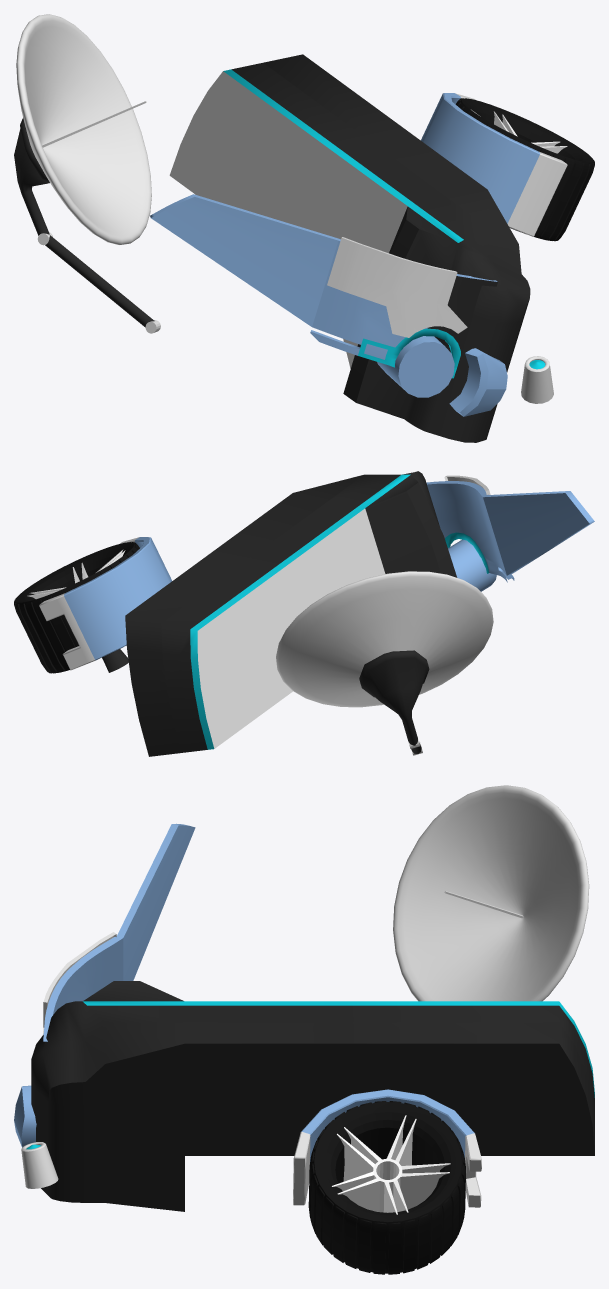
Rendered from rover_destroyed.fbx.
3 views of the same model, one above another, from view 1: azimuth 30°, elevation 25°; view 2: azimuth 150°, elevation 25°; view 3: azimuth 270°, elevation 25° (orthographic). The views are drawn at different scales.
Parts seen in each view (by area): view 1: Cube.006, ROVER.001, Head_Plate, Support_Back_Right, Plate_Right, Wheel_Back_Right, Head, Cylinder.002, Cube.004, Cube.003, Light_Front_Left; view 2: Cube.006, ROVER.001, Head_Plate, Support_Back_Right, Wheel_Back_Right, Cube.004, Head, Rims_Back_Right, WheelRod_Back_Right; view 3: Cube.006, ROVER.001, Wheel_Back_Right, Head_Plate, Rims_Back_Right, Support_Back_Right, Light_Front_Left, Cylinder.002.
Boxes of the visible parts, <box> form: Cube.006: <box>169,54,530,442</box>; ROVER.001: <box>16,14,151,244</box>; Head_Plate: <box>150,194,497,378</box>; Support_Back_Right: <box>421,93,567,236</box>; Plate_Right: <box>327,237,467,337</box>; Wheel_Back_Right: <box>455,98,594,241</box>; Head: <box>377,336,454,397</box>; Cylinder.002: <box>449,348,507,416</box>; Cube.004: <box>14,118,49,235</box>; Cube.003: <box>45,235,154,327</box>; Light_Front_Left: <box>521,356,553,403</box>; Cube.006: <box>125,471,457,756</box>; ROVER.001: <box>276,571,493,707</box>; Head_Plate: <box>426,481,594,582</box>; Support_Back_Right: <box>39,537,171,670</box>; Wheel_Back_Right: <box>14,542,139,673</box>; Cube.004: <box>359,650,429,745</box>; Head: <box>448,539,496,591</box>; Rims_Back_Right: <box>27,549,125,599</box>; WheelRod_Back_Right: <box>102,649,128,672</box>; Cube.006: <box>31,981,594,1211</box>; ROVER.001: <box>393,785,589,1001</box>; Wheel_Back_Right: <box>308,1101,465,1274</box>; Head_Plate: <box>43,823,195,1041</box>; Rims_Back_Right: <box>332,1115,450,1214</box>; Support_Back_Right: <box>293,1089,481,1207</box>; Light_Front_Left: <box>21,1142,58,1188</box>; Cylinder.002: <box>14,1085,36,1147</box>.
Size of the model in its own units: 258 by 142 by 241.
